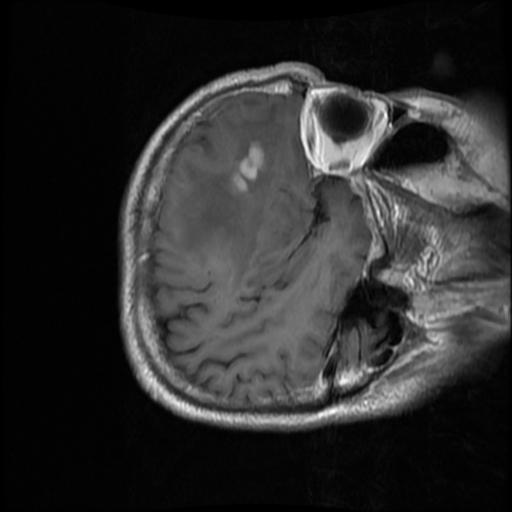glioma: (228, 138, 265, 195)
